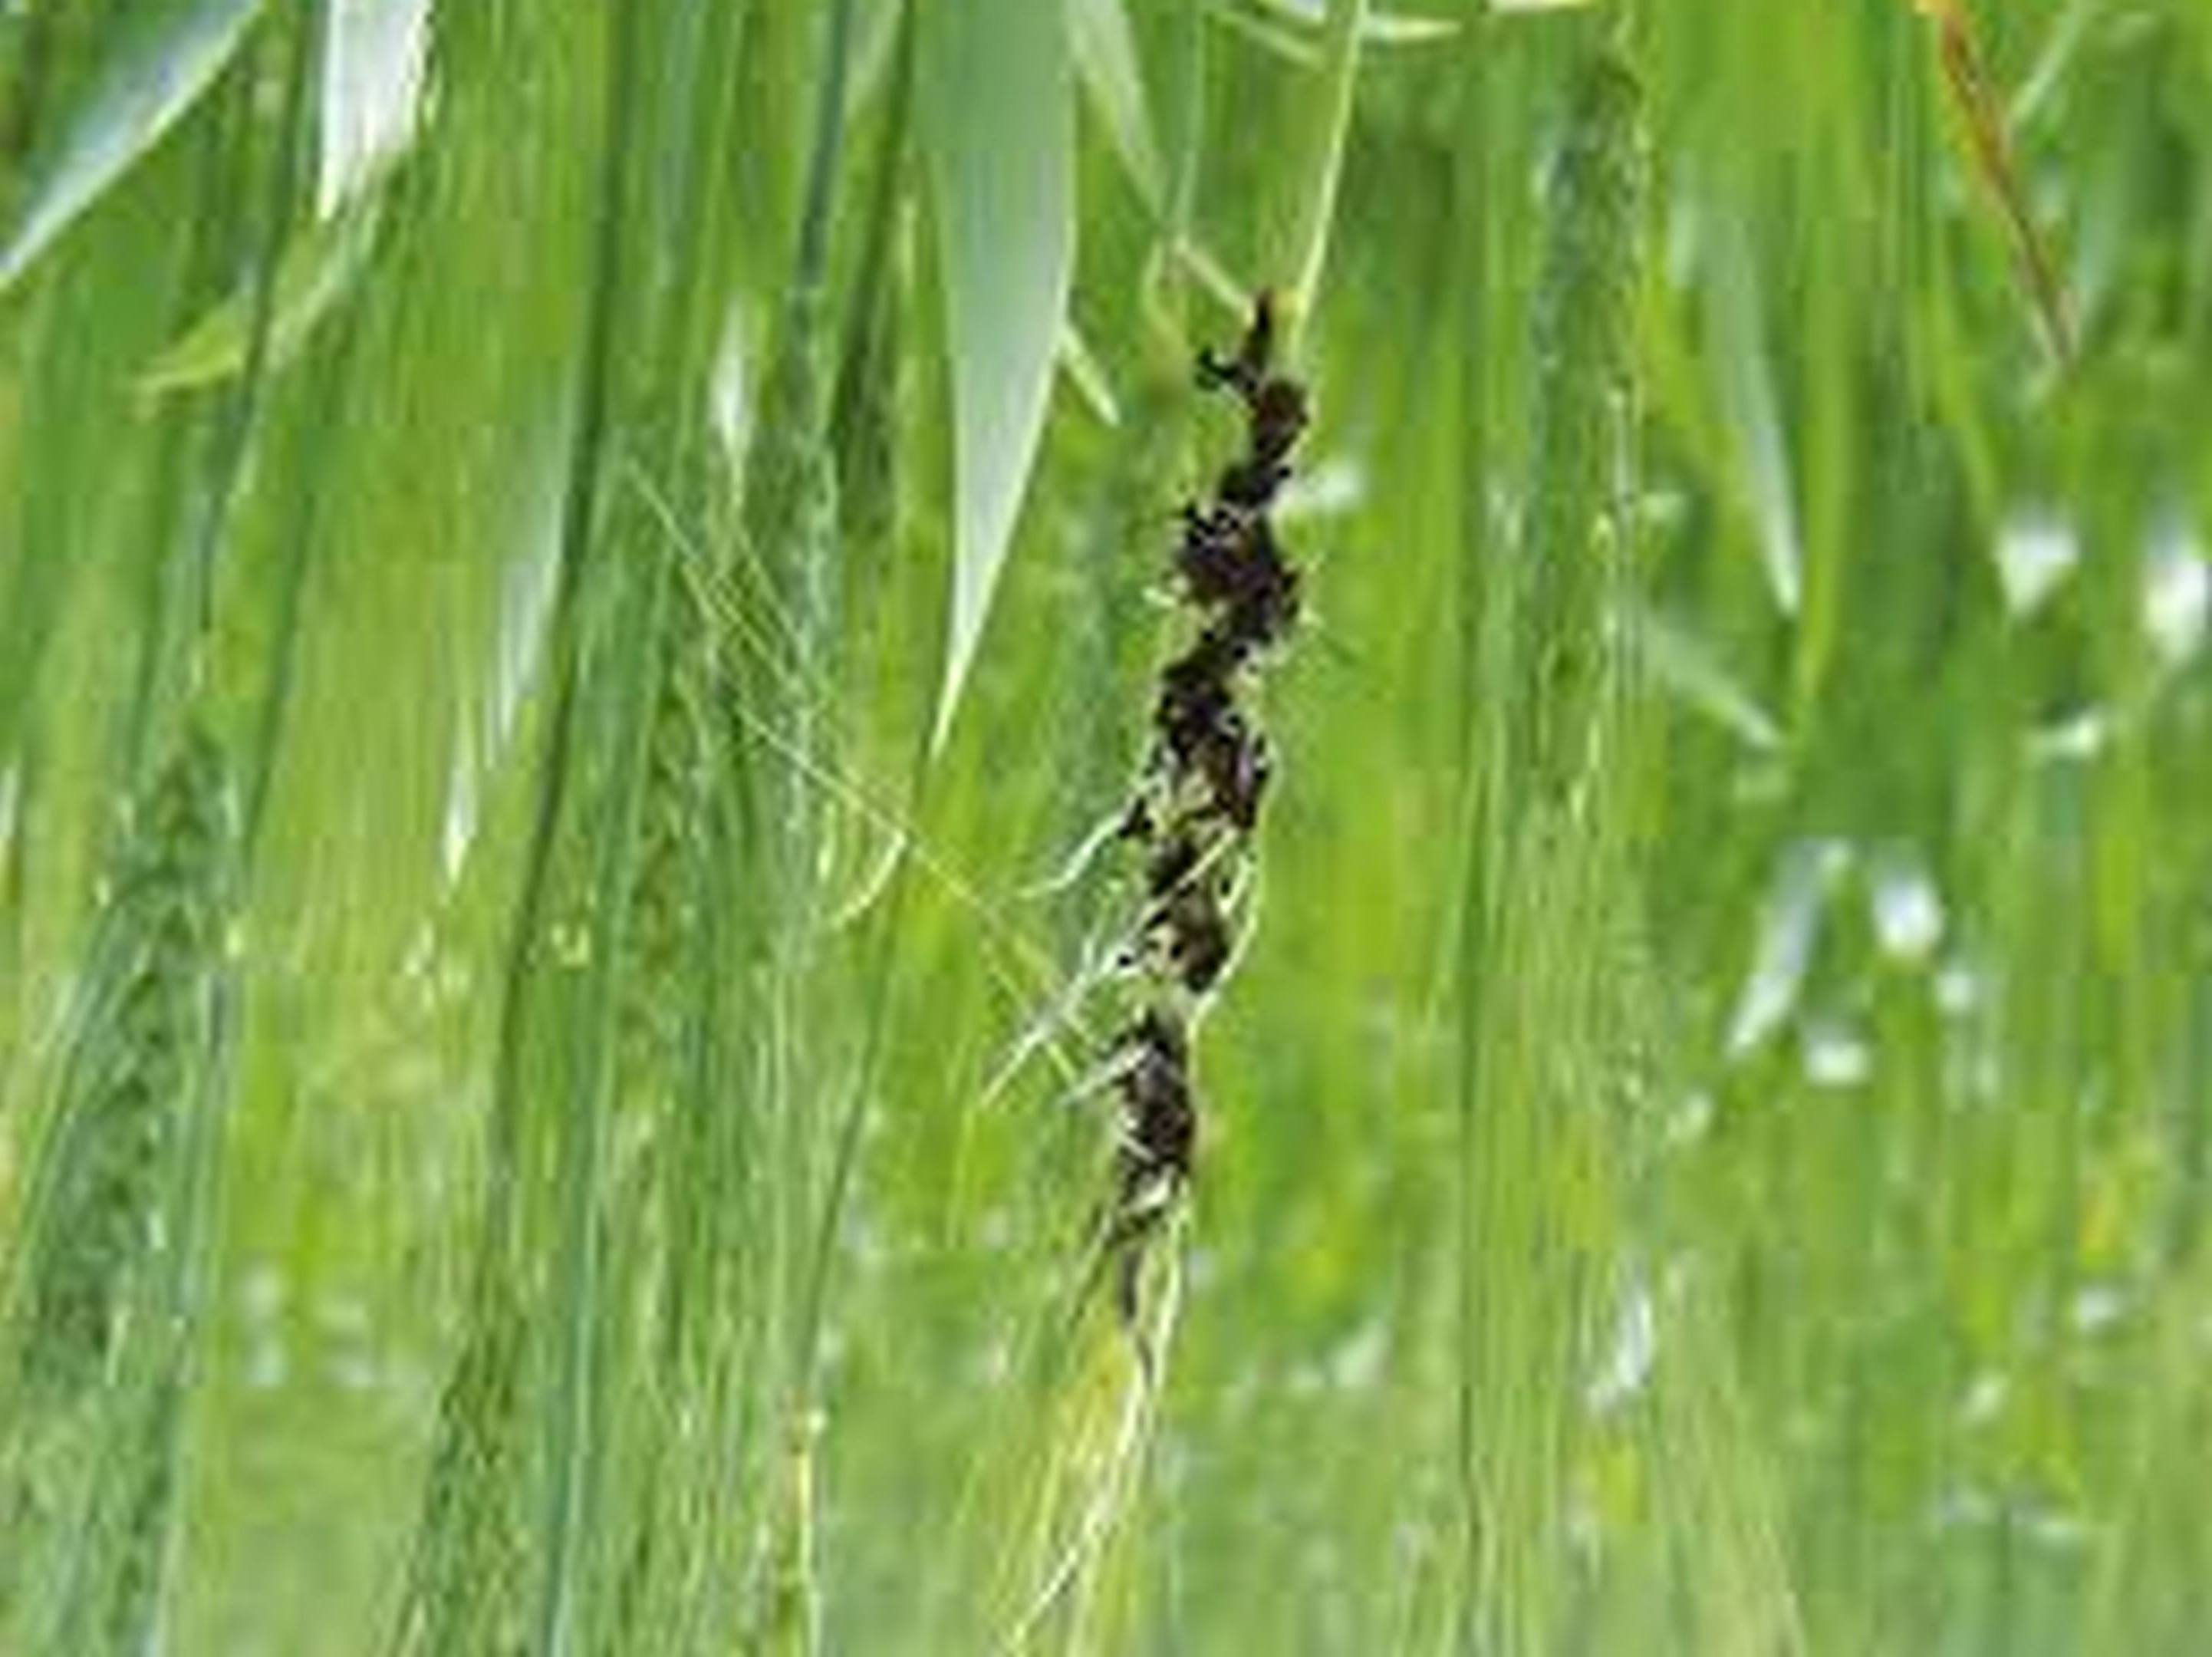Wheat Loose Smut: (1015, 392, 1344, 1265)
